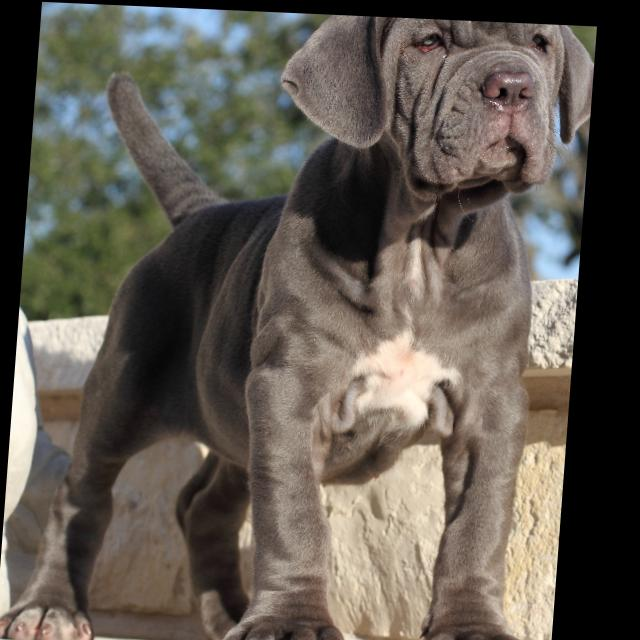mastino_napoletano: (6, 2, 599, 640)
